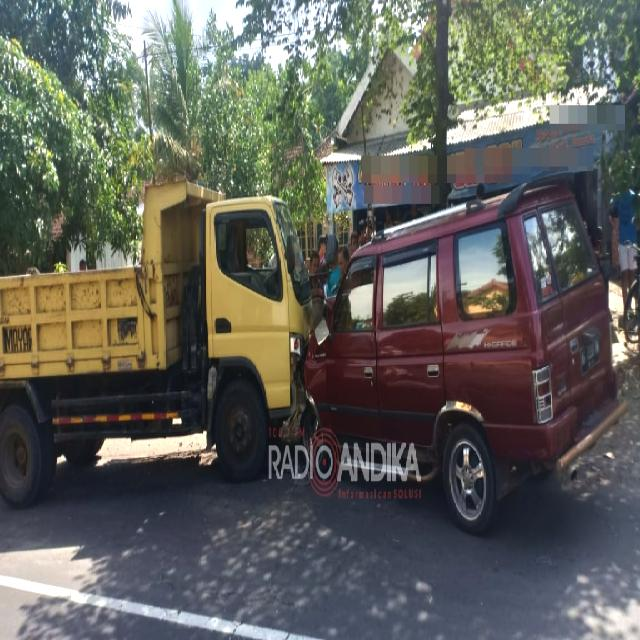truck: (1, 177, 311, 476)
